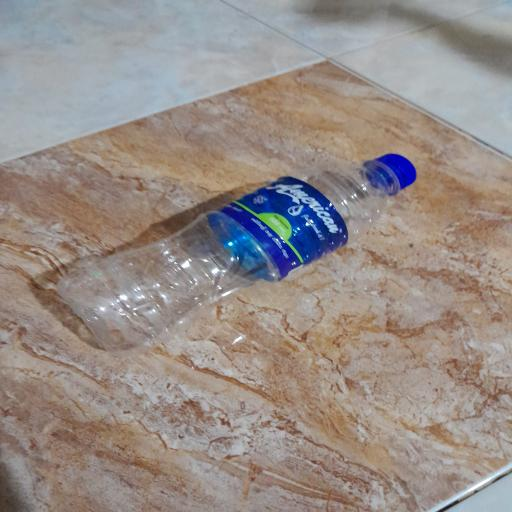waste: (45, 139, 421, 345)
